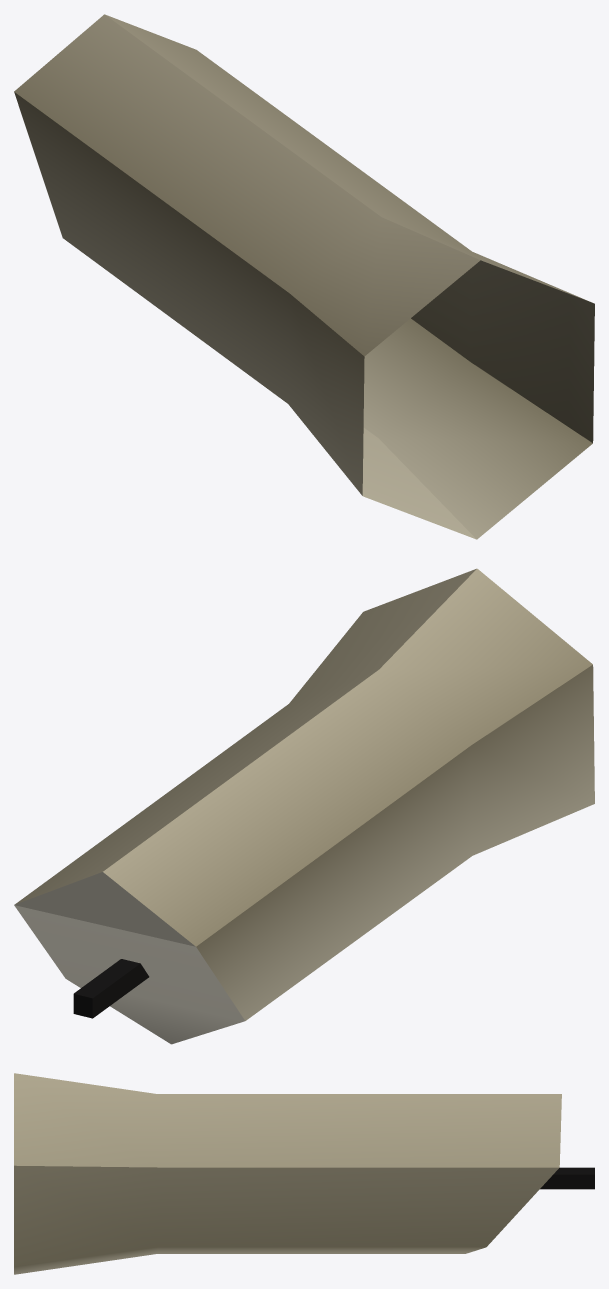
The model's file is HolidayCandleStick.fbx.
3 views of the same model, one above another, from view 1: azimuth 30°, elevation 25°; view 2: azimuth 150°, elevation 25°; view 3: azimuth 270°, elevation 25° (orthographic). The views are drawn at different scales.
Parts seen in each view (by area): view 1: HolidayCandleStick; view 2: HolidayCandleStick; view 3: HolidayCandleStick.
Boxes of the visible parts, bbox=[...] form: HolidayCandleStick: bbox=[14, 14, 594, 539]; HolidayCandleStick: bbox=[14, 568, 594, 1044]; HolidayCandleStick: bbox=[14, 1073, 594, 1274].
Size of the model in its own units: 13.17 by 15.09 by 39.12.
